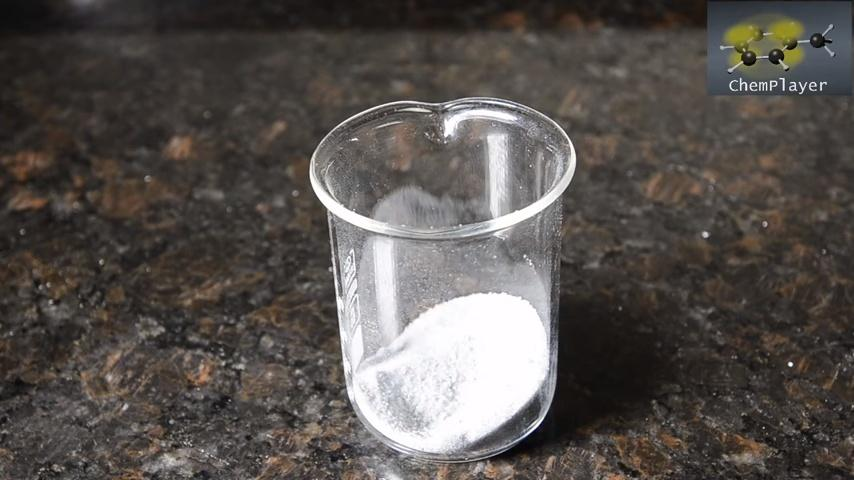Beaker: (268, 87, 609, 471)
